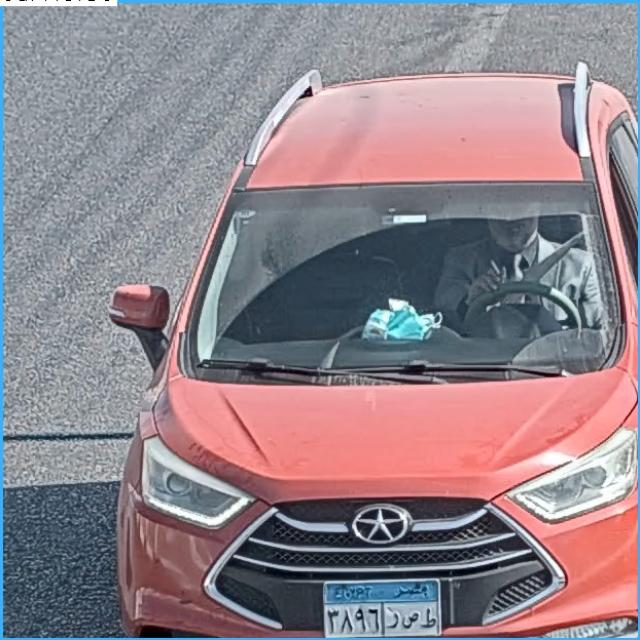windshield: (188, 195, 620, 372)
